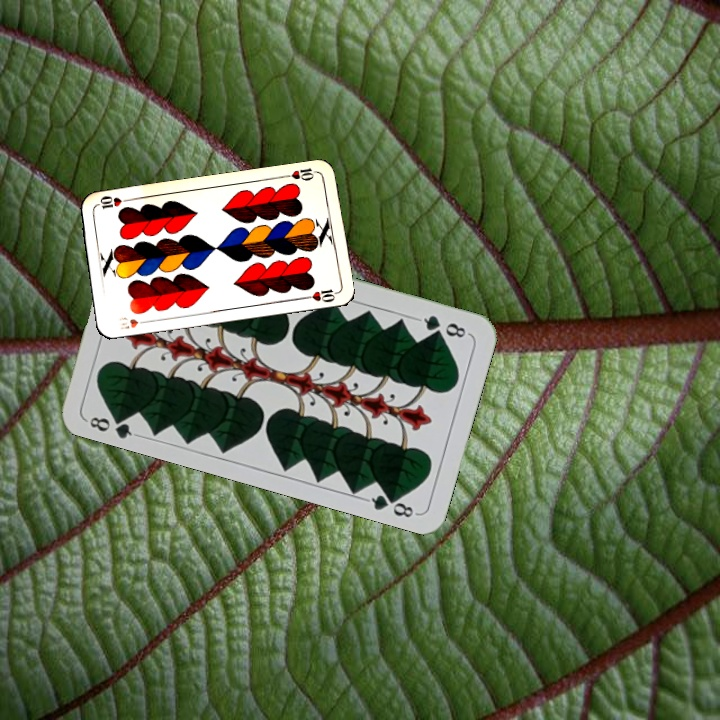G8: (83, 408, 141, 441), (414, 311, 472, 341)
H10: (280, 164, 321, 183), (113, 313, 152, 332)
